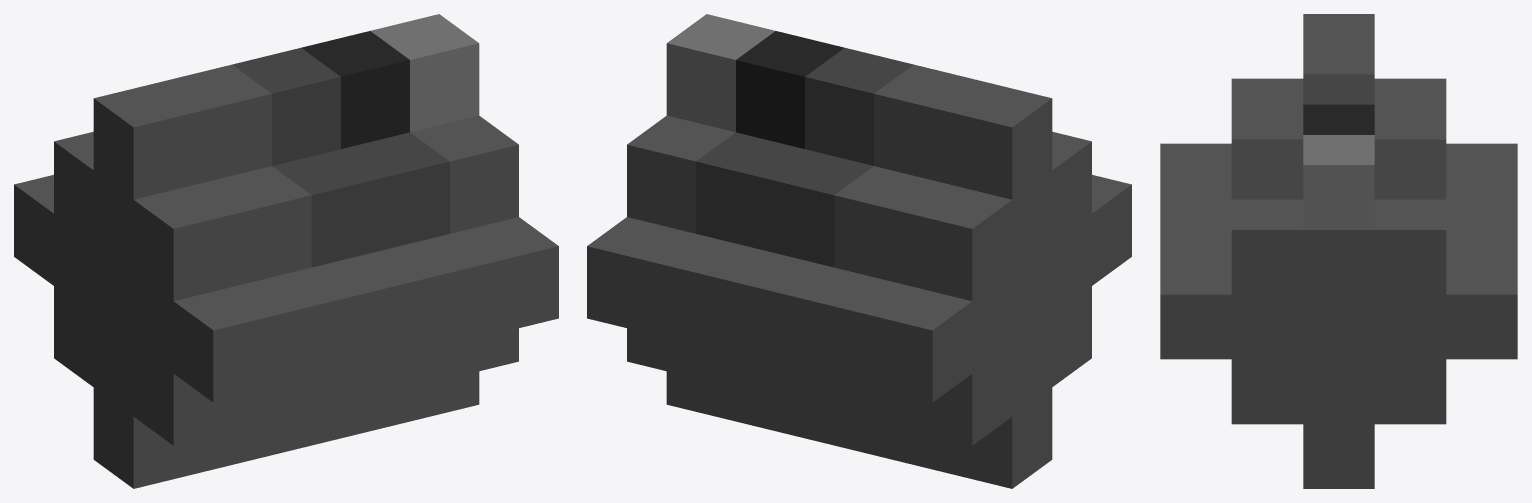
The model's file is character left upper arm modeling.obj.
3 renders of one model, left to right at view 1: azimuth 30°, elevation 25°; view 2: azimuth 150°, elevation 25°; view 3: azimuth 270°, elevation 25°, orthographic. The views are drawn at different scales.
Size of the model in its own units: 0.5 by 0.5 by 0.5.
1 material, 1 textured.
